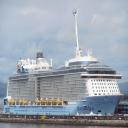cruises: (4, 9, 125, 118)
